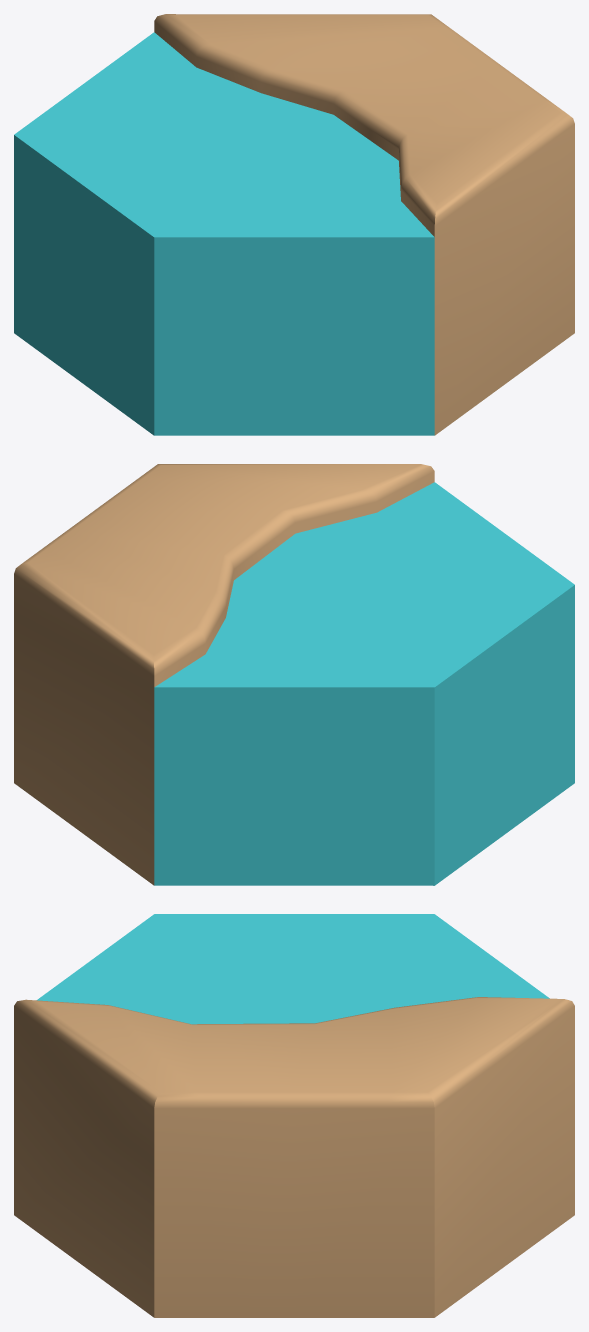
File: kaykit-hex-sand-waterc.glb
3 views of the same model, one above another, from view 1: azimuth 30°, elevation 25°; view 2: azimuth 150°, elevation 25°; view 3: azimuth 270°, elevation 25° (orthographic).
Parts seen in each view (by area): view 1: hex_sand_waterC; view 2: hex_sand_waterC; view 3: hex_sand_waterC.
Part boxes in pixels (bbox=[...]): hex_sand_waterC: bbox=[14, 14, 574, 435]; hex_sand_waterC: bbox=[14, 464, 574, 885]; hex_sand_waterC: bbox=[14, 914, 574, 1317].
Size of the model in its own units: 2 by 1 by 2.31.
